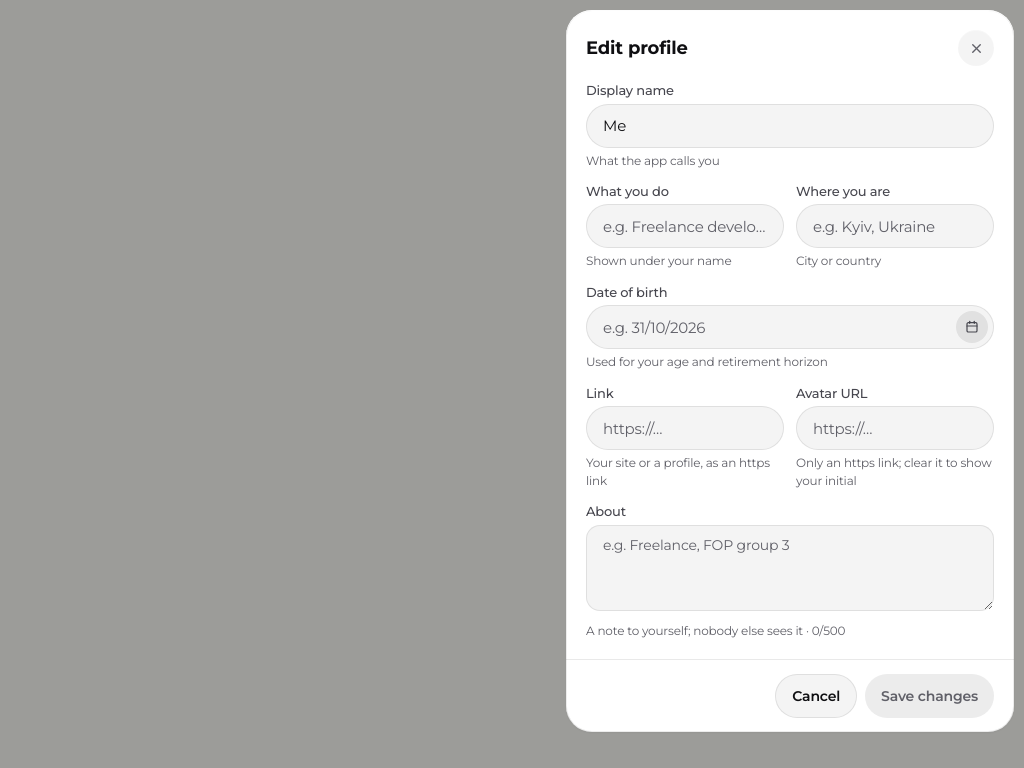
Scenario: DetailsSheet › shows the server's reason and stays open
Step 1. Type "Kyiv" into the field labelled "Where you are City or country" → {"x": 895, "y": 226}, box [796, 204, 994, 248]
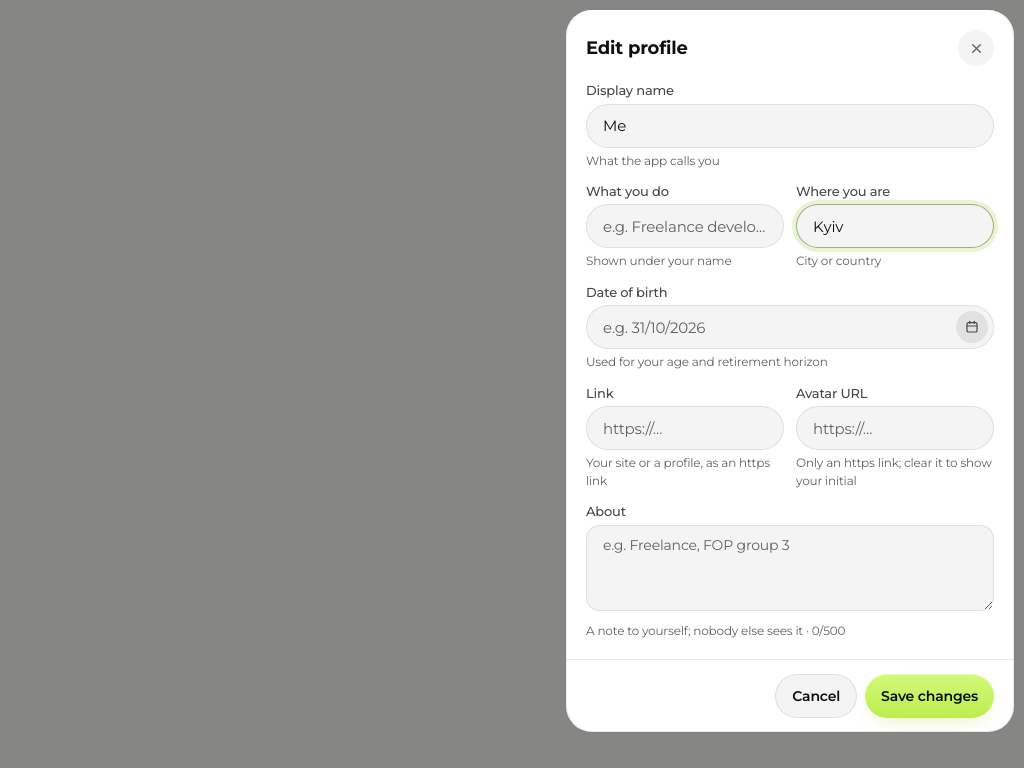
Step 2. Click the button "Save changes" → {"x": 930, "y": 696}, box [865, 674, 994, 718]
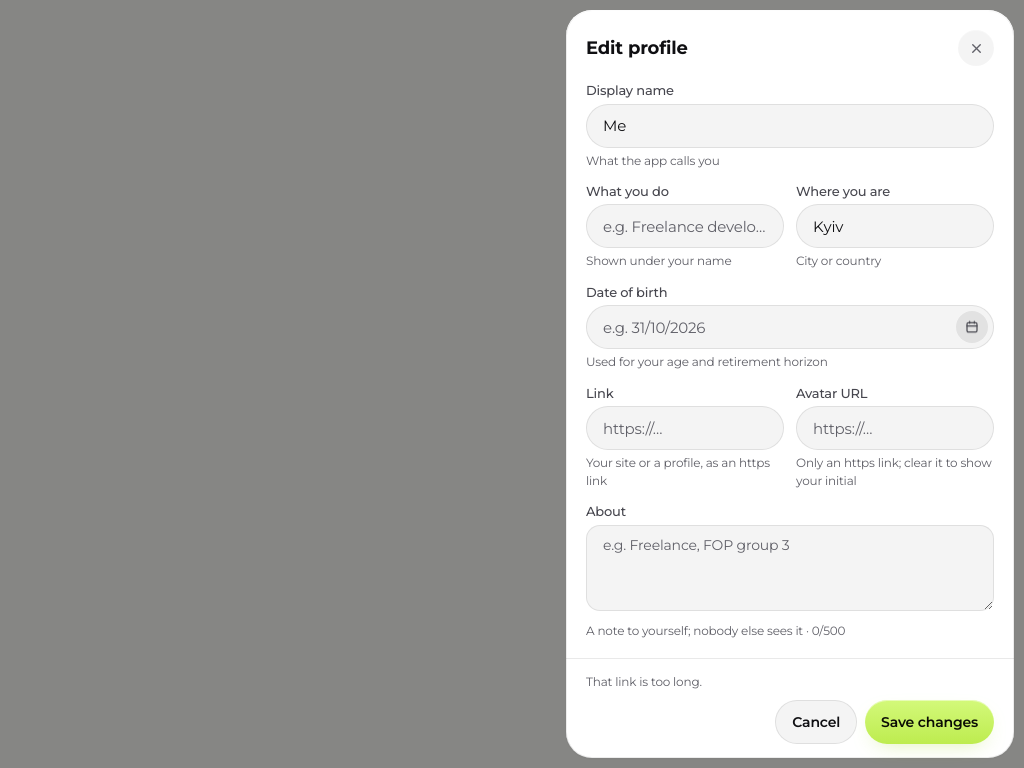
Expected: the text "That link is too long." is shown, [586, 674, 702, 689]
